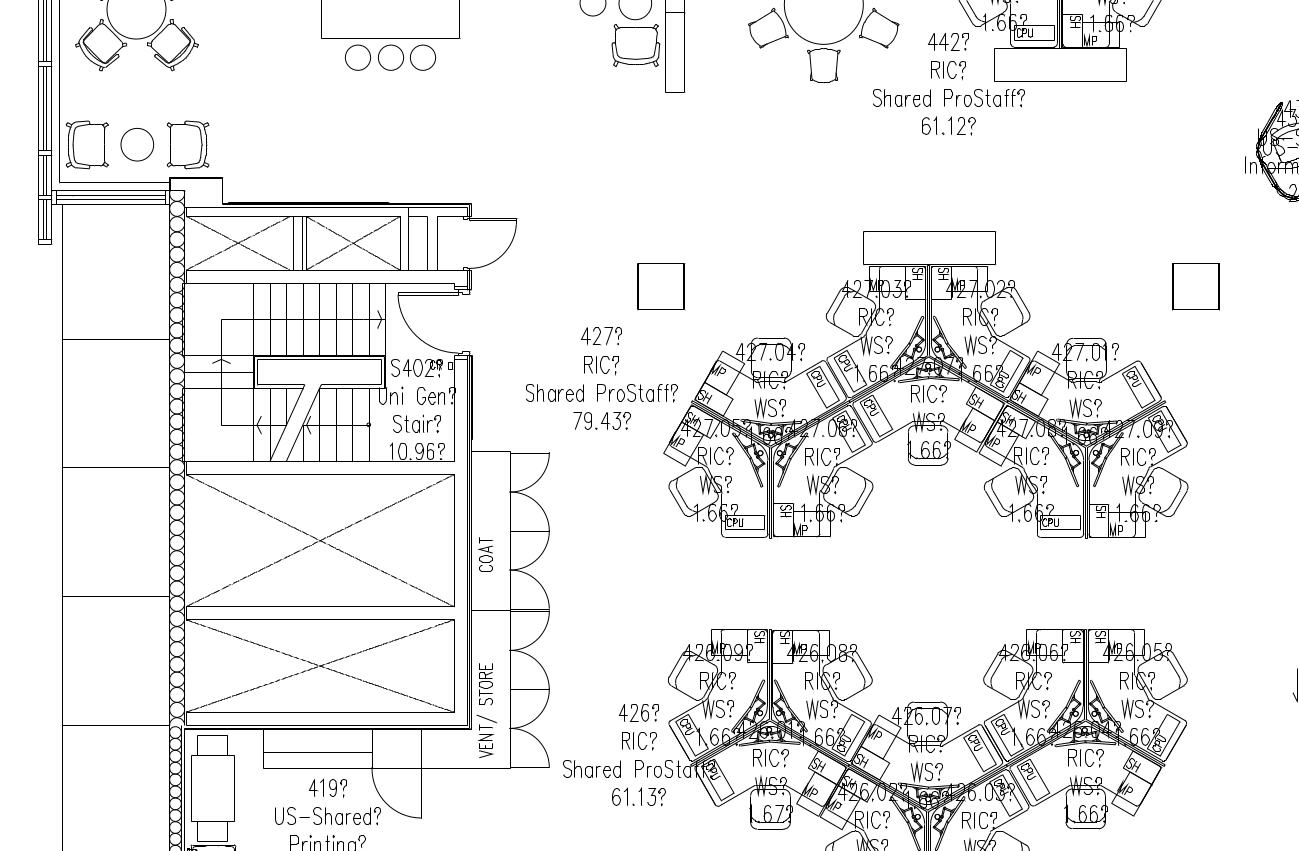door: (393, 286, 460, 359), (511, 440, 561, 531), (507, 687, 557, 778), (371, 760, 423, 823), (470, 212, 519, 271)
